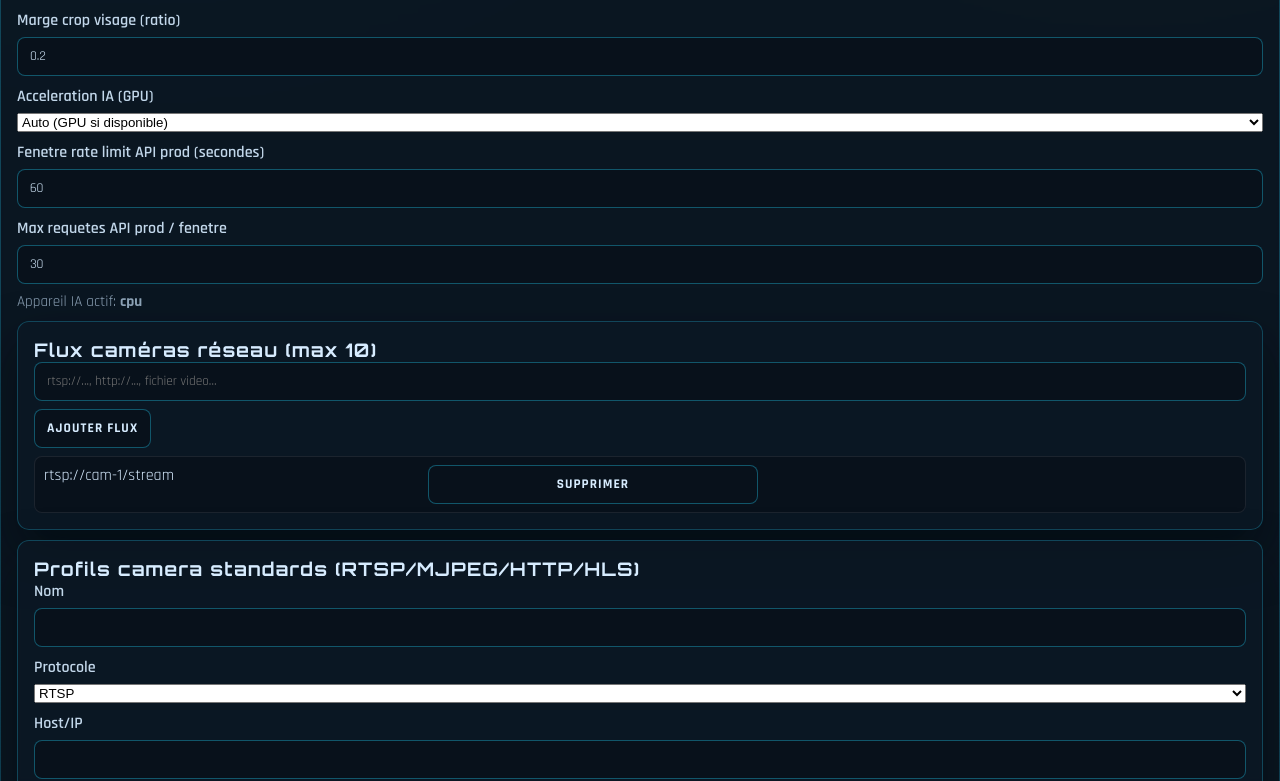
Test: ConfigPanel › adds a network source and persists the updated config
(page scrolled)
Type "http://cam-2/live.mjpg" into the field with placeholder "rtsp://..., http://..., fichier video..." at [640, 382], box [34,362,1246,401]
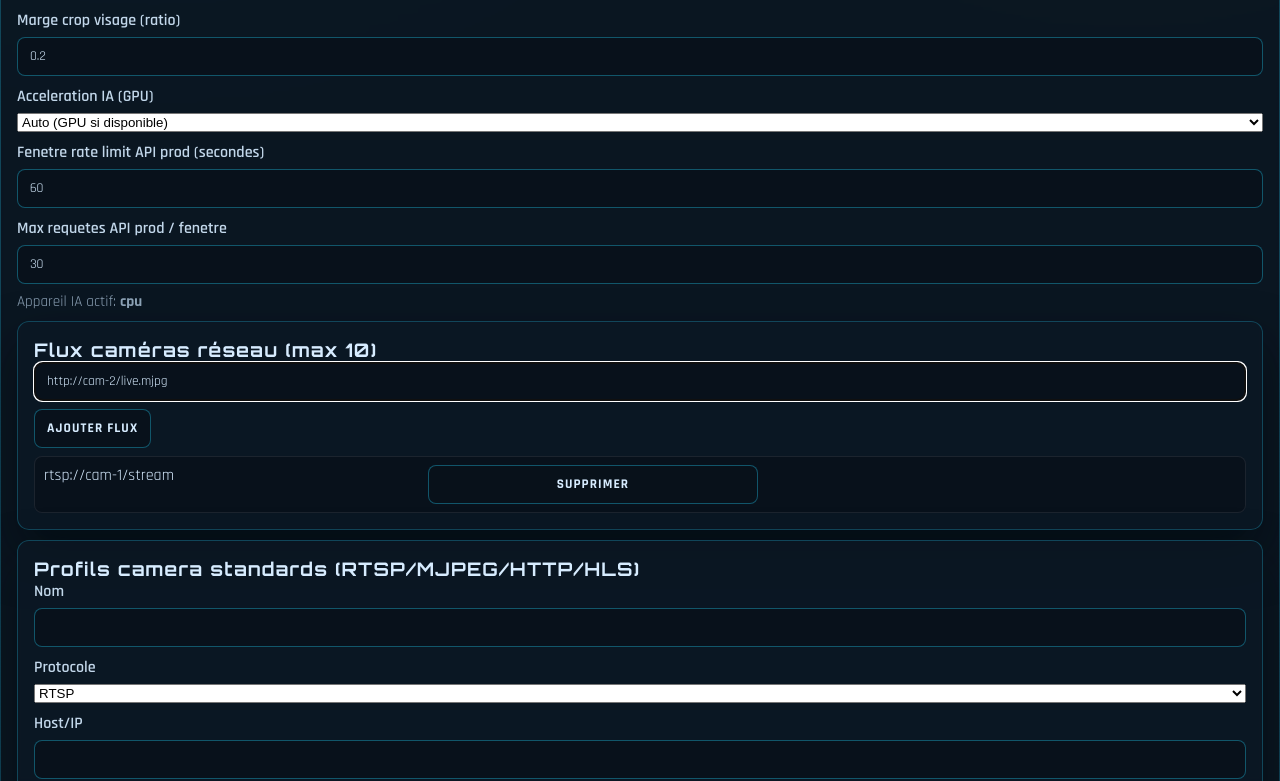
Click the button "Ajouter flux" at [93, 428], box [34,409,151,448]
(page scrolled)
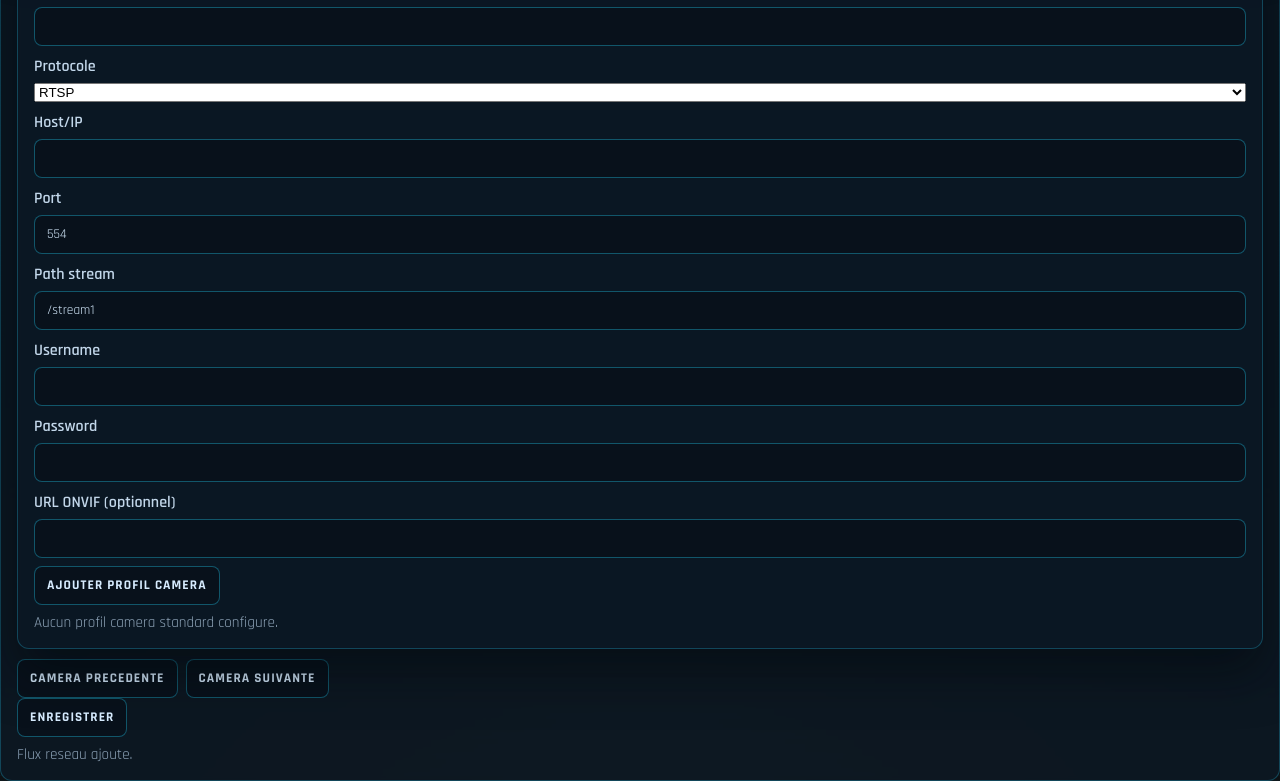
Expected: the text "Flux reseau ajoute." is shown, [17,745,132,764]
